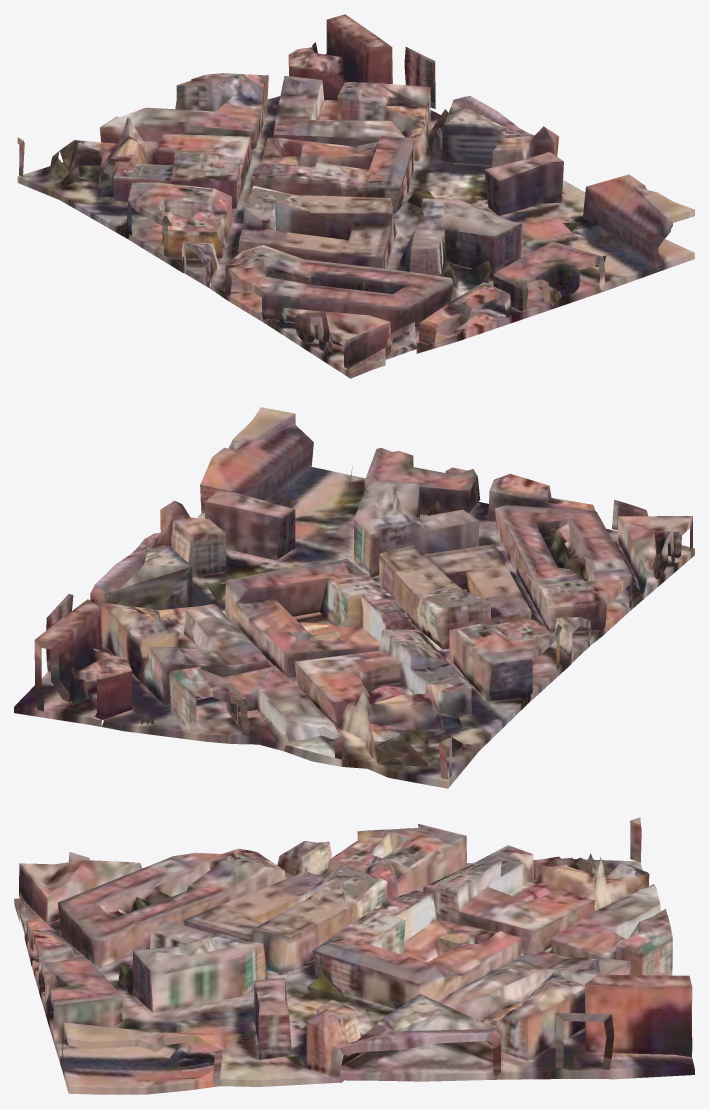
3 views of the same model, one above another, from view 1: azimuth 30°, elevation 25°; view 2: azimuth 150°, elevation 25°; view 3: azimuth 270°, elevation 25° (orthographic). The views are drawn at different scales.
Visible parts, largest first — view 1: Mesh_0; view 2: Mesh_0; view 3: Mesh_0.
Part boxes in pixels (x1,y1,x2,y2): Mesh_0: (17, 14, 694, 378); Mesh_0: (14, 407, 694, 788); Mesh_0: (14, 817, 694, 1094).
Size of the model in its own units: 269 by 44.62 by 330.
2 materials, 2 textured.
